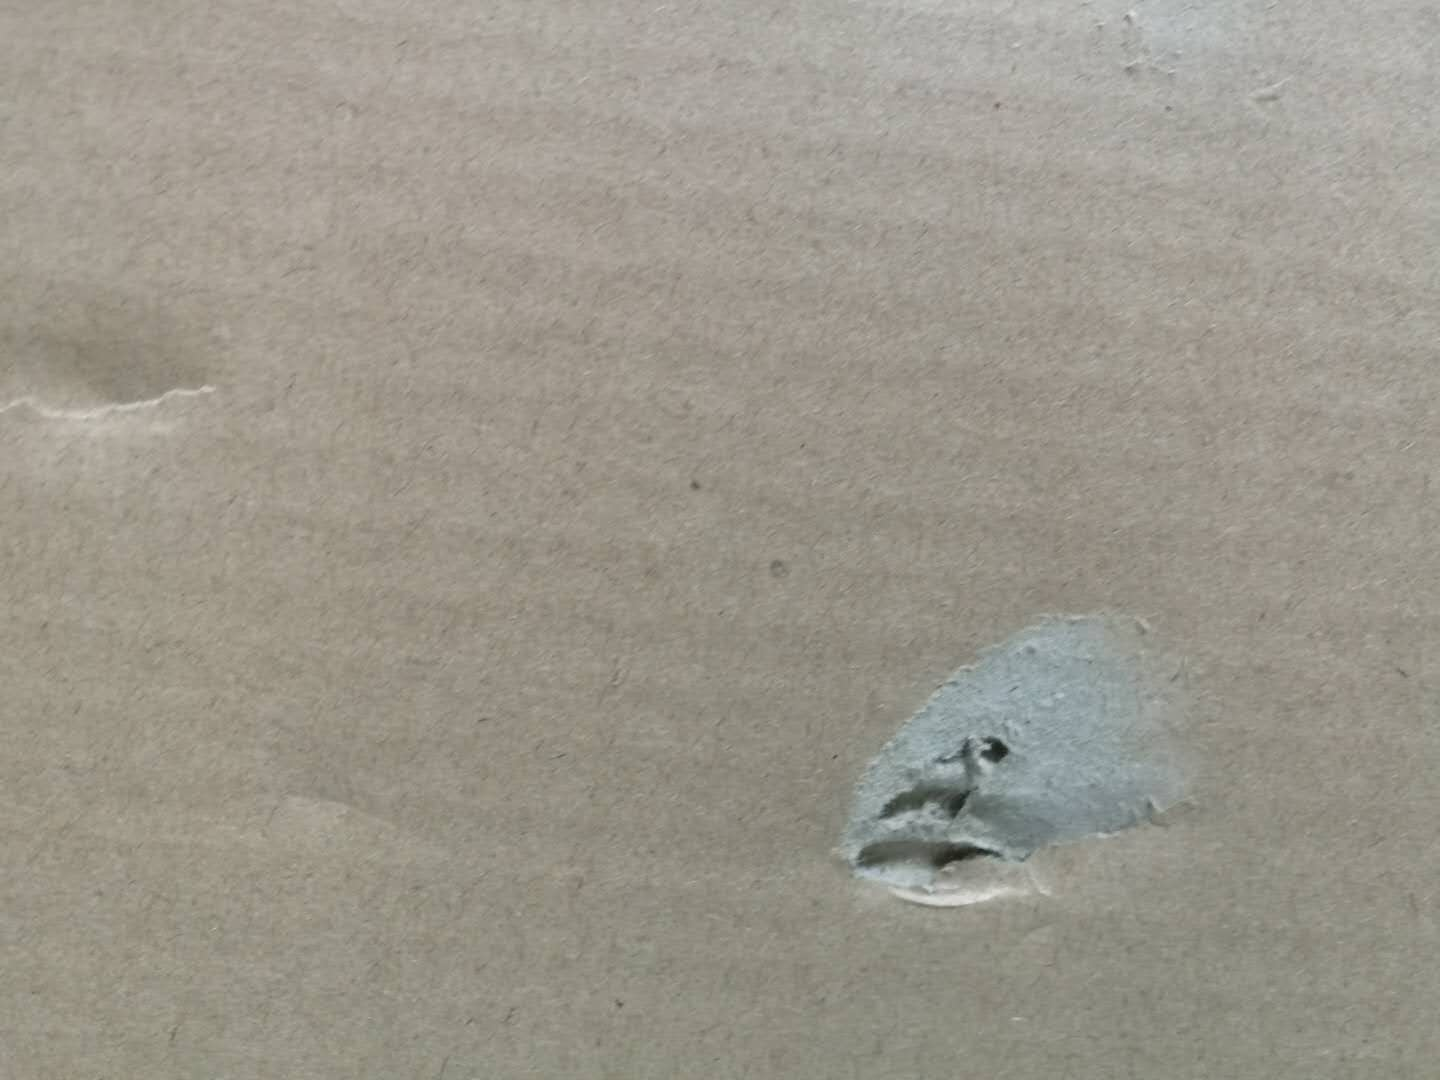defect: (808, 582, 1225, 934), (2, 284, 257, 486)
